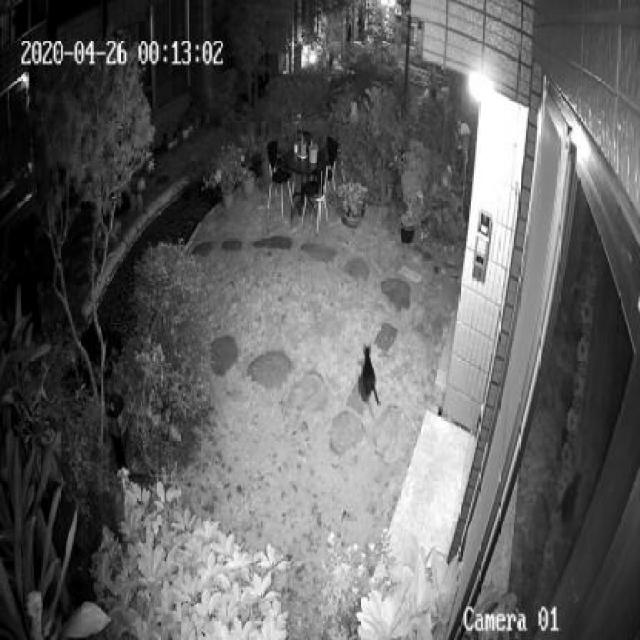animals: (359, 342, 384, 410)
